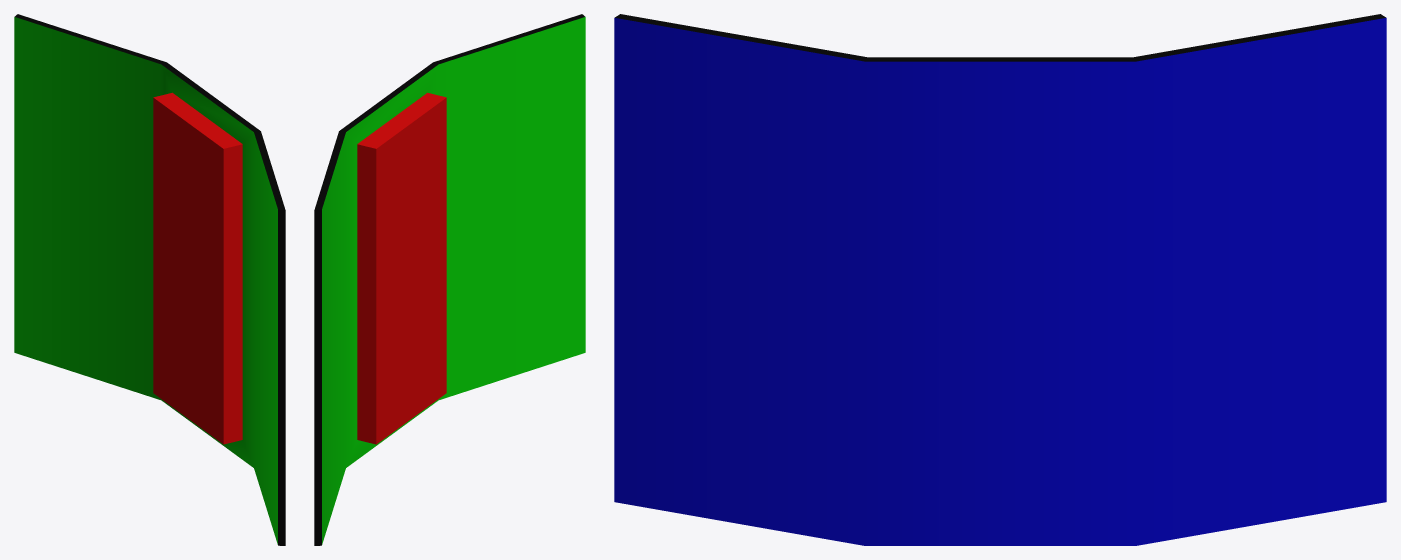
File: cspsm.fbx
3 views of the same model, side by side, from view 1: azimuth 30°, elevation 25°; view 2: azimuth 150°, elevation 25°; view 3: azimuth 270°, elevation 25° (orthographic). The views are drawn at different scales.
Parts seen in each view (by area): view 1: cspsm05_mesh; view 2: cspsm05_mesh; view 3: cspsm05_mesh.
Boxes of the visible parts, x1,y1,x2,y2 form: cspsm05_mesh: (14,14,285,545); cspsm05_mesh: (314,14,585,545); cspsm05_mesh: (614,14,1386,545).
Size of the model in its own units: 0.1054 by 0.5 by 0.7222.
